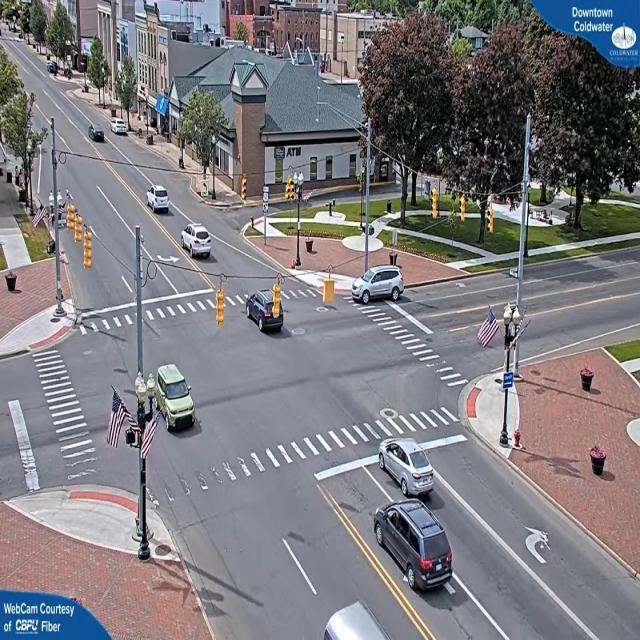car: (372, 502, 456, 595), (380, 438, 435, 497), (155, 366, 197, 435), (246, 287, 284, 331), (358, 269, 404, 305), (181, 224, 214, 258), (146, 186, 170, 214), (94, 126, 114, 143), (111, 119, 129, 136), (90, 126, 105, 143)
